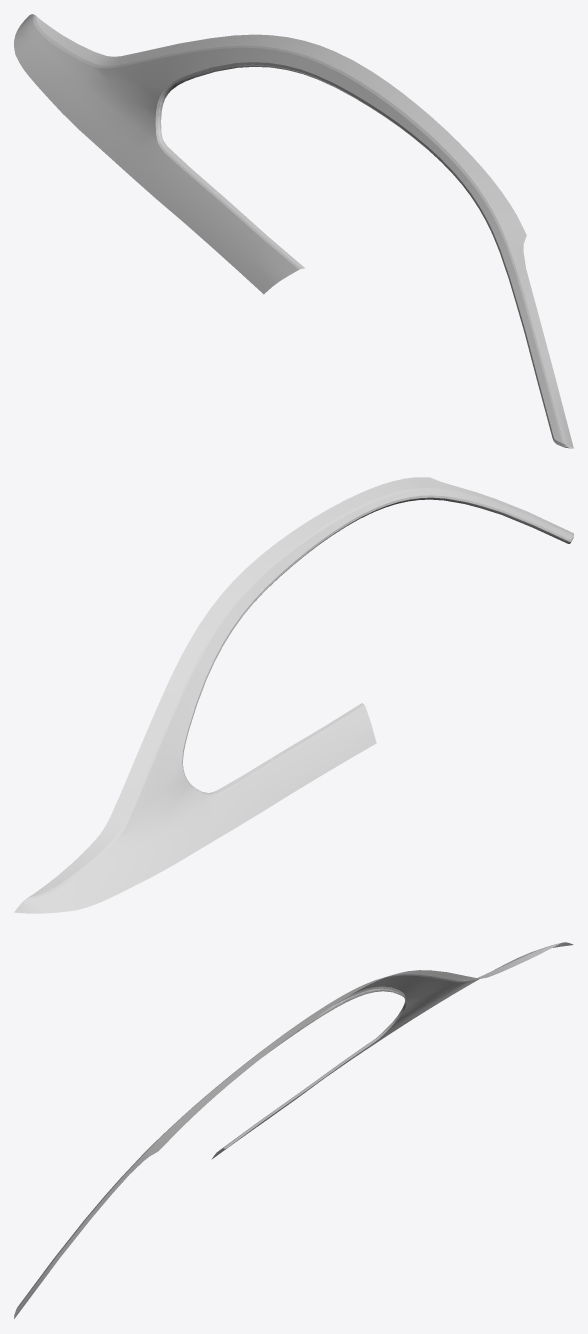
The model's file is M2passbackfenderoutline.glb.
The picture shows the model from 3 angles, top to bottom: view 1: azimuth 30°, elevation 25°; view 2: azimuth 150°, elevation 25°; view 3: azimuth 330°, elevation 25°; orthographic projection. The views are drawn at different scales.
Visible parts, largest first — view 1: Object_23.091, Object_23.109, Object_23.093, Object_23.094, Object_23.108; view 2: Object_23.091, Object_23.109, Object_23.093, Object_23.094, Object_23.108; view 3: Object_23.109, Object_23.091, Object_23.108, Object_23.093.
Boxes of the visible parts, x1=… form: Object_23.091: x1=14, y1=14, x2=561, y2=442; Object_23.109: x1=36, y1=16, x2=573, y2=448; Object_23.093: x1=33, y1=15, x2=563, y2=443; Object_23.094: x1=155, y1=62, x2=572, y2=448; Object_23.108: x1=158, y1=64, x2=571, y2=448; Object_23.091: x1=14, y1=489, x2=572, y2=913; Object_23.109: x1=27, y1=477, x2=573, y2=897; Object_23.093: x1=25, y1=488, x2=572, y2=899; Object_23.094: x1=182, y1=495, x2=573, y2=795; Object_23.108: x1=197, y1=497, x2=570, y2=794; Object_23.109: x1=14, y1=943, x2=559, y2=1318; Object_23.091: x1=15, y1=942, x2=573, y2=1311; Object_23.108: x1=224, y1=988, x2=406, y2=1148; Object_23.093: x1=15, y1=943, x2=560, y2=1312.
Size of the model in its own units: 0.3182 by 0.4849 by 2.72.
Materials: 1 (1 with a texture image).
